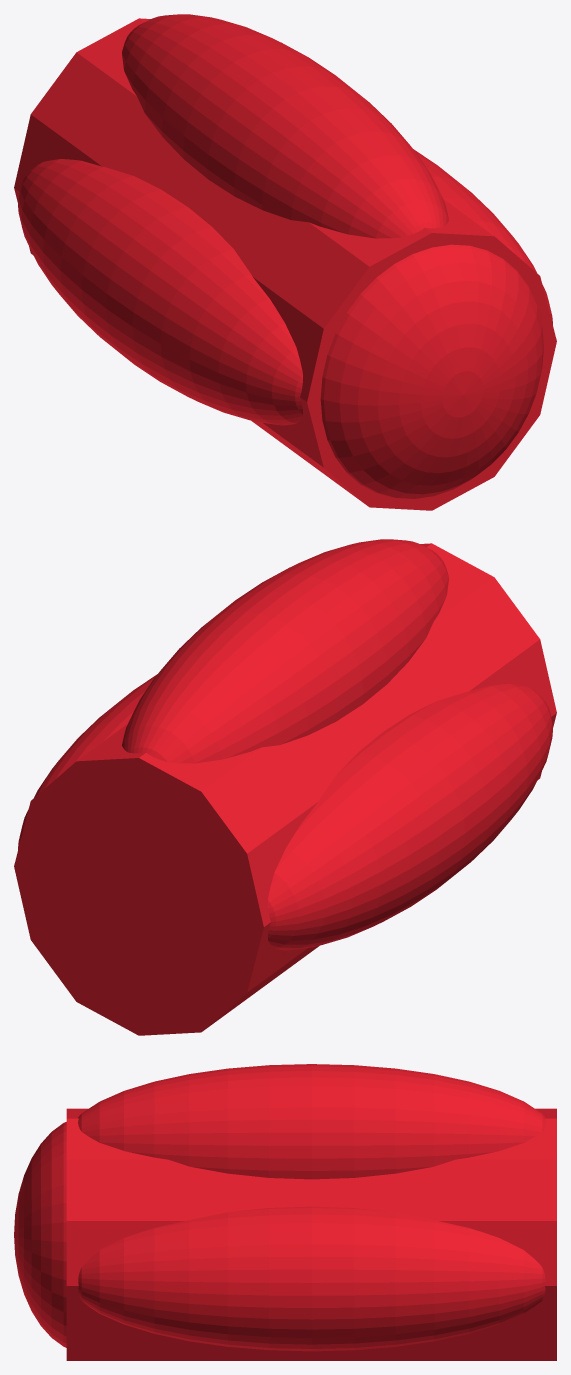
File: Capsules.obj
3 views of the same model, one above another, from view 1: azimuth 30°, elevation 25°; view 2: azimuth 150°, elevation 25°; view 3: azimuth 270°, elevation 25° (orthographic). The views are drawn at different scales.
Visible parts, largest first — view 1: obj_0; view 2: obj_0; view 3: obj_0.
Part boxes in pixels (x1,y1,x2,y2): obj_0: (14,14,556,510); obj_0: (14,539,556,1035); obj_0: (14,1064,556,1360).
Size of the model in its own units: 46 by 41 by 72.
